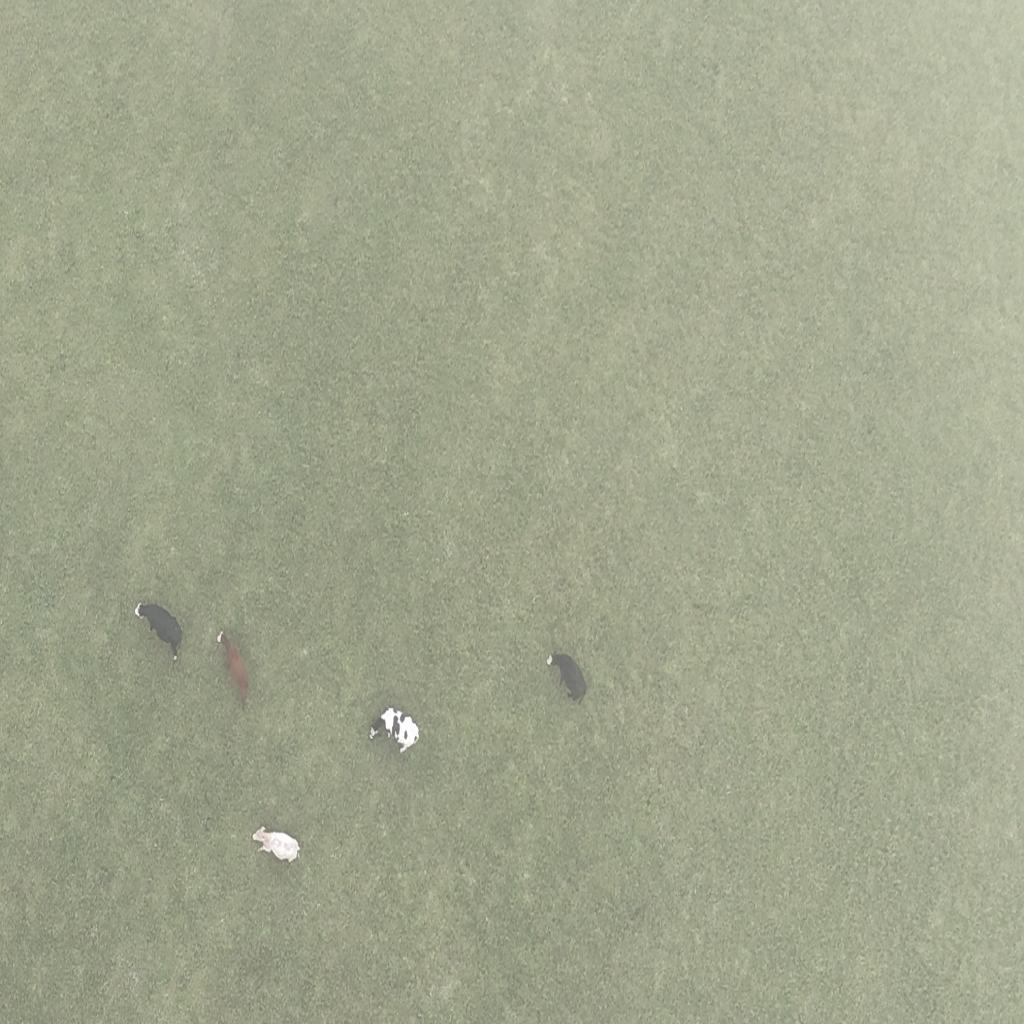cow: (133, 596, 185, 665), (368, 701, 422, 759), (546, 647, 588, 709), (216, 631, 250, 705), (252, 822, 304, 866)
